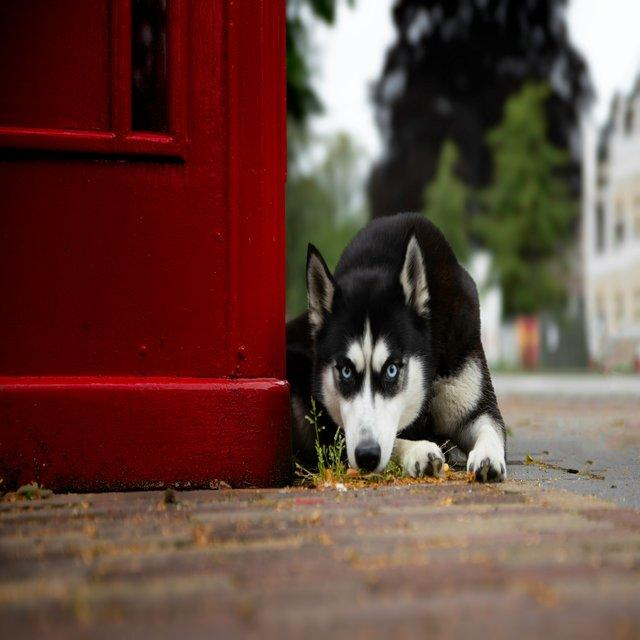husky: (285, 210, 508, 483)
